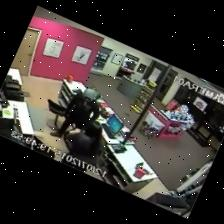person: (50, 88, 99, 137), (60, 121, 103, 171)
